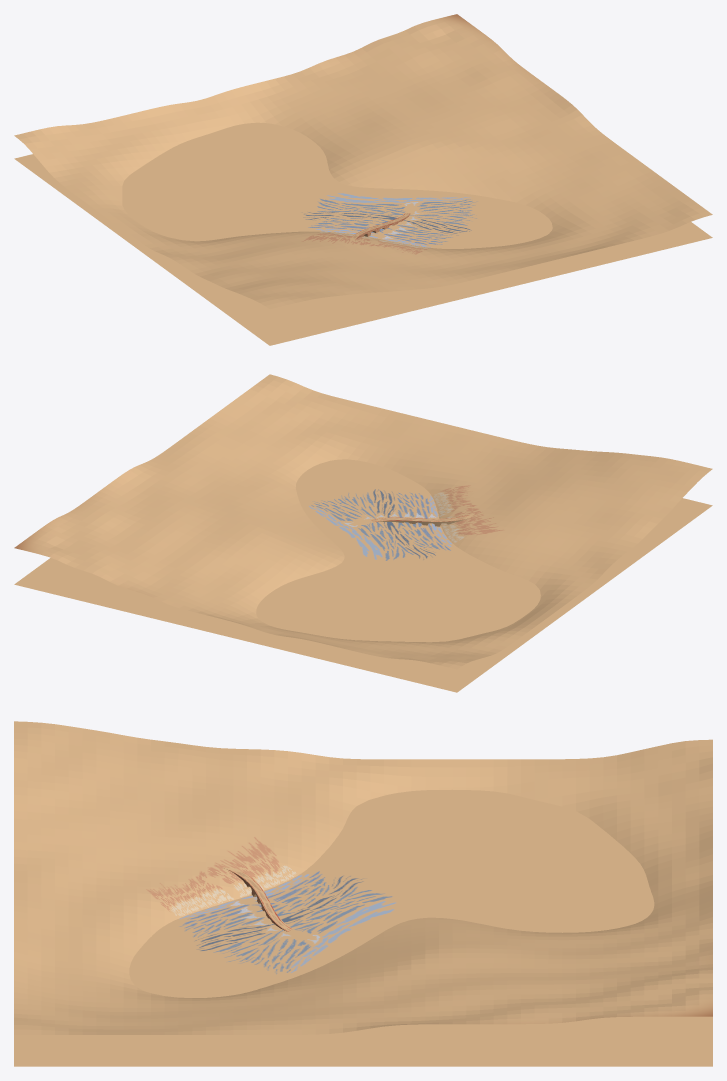
File: bridge.glb
3 views of the same model, one above another, from view 1: azimuth 30°, elevation 25°; view 2: azimuth 150°, elevation 25°; view 3: azimuth 270°, elevation 25° (orthographic). The views are drawn at different scales.
Visible parts, largest first — view 1: Ground, Water; view 2: Ground, Water, Plane.002; view 3: Ground, Water, Plane.002.
Part boxes in pixels (<box>): Ground: <box>14,14,712,309</box>; Water: <box>14,122,712,345</box>; Ground: <box>14,374,712,669</box>; Water: <box>14,459,712,692</box>; Plane.002: <box>371,513,474,526</box>; Ground: <box>14,721,712,1034</box>; Water: <box>14,789,712,1066</box>; Plane.002: <box>222,867,292,932</box>.
Size of the model in its own units: 20 by 2.73 by 20.
Materials: 3 (3 with a texture image).
